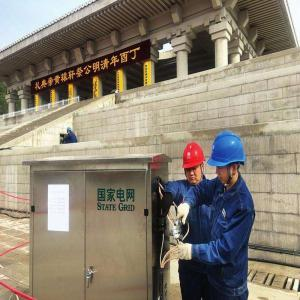blue: (209, 131, 248, 188), (67, 126, 73, 134)
red: (182, 141, 208, 186)
